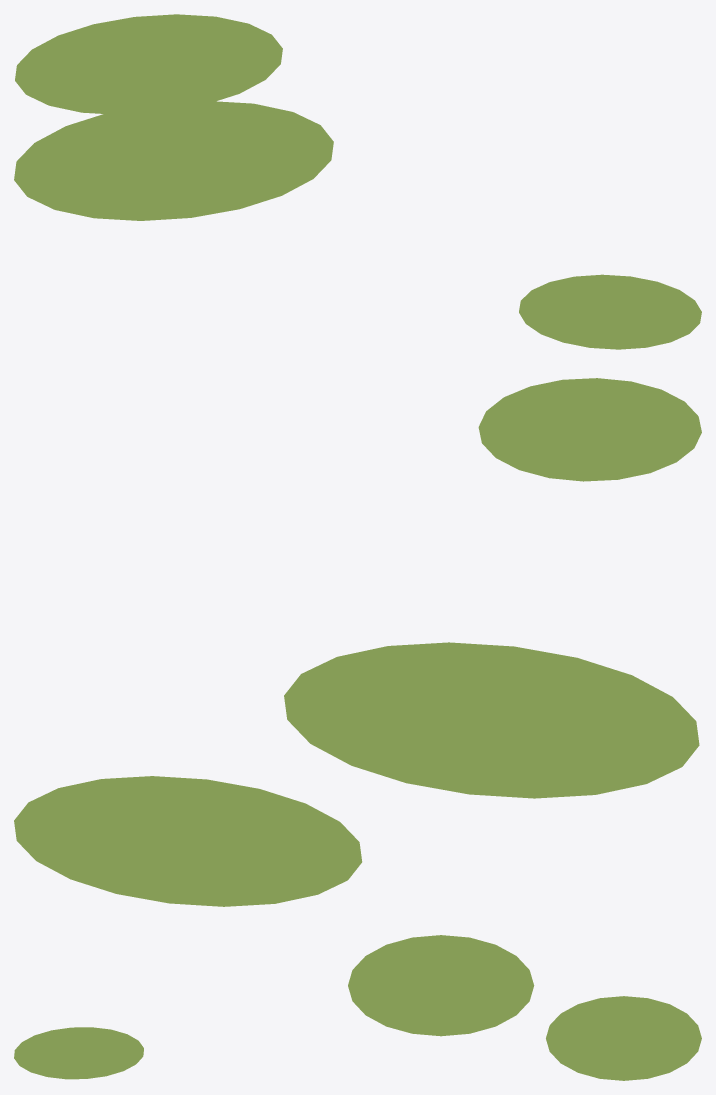
The model's file is Mesh_Home_Terrain_small.fbx.
The picture shows the model from 3 angles, top to bottom: view 1: azimuth 30°, elevation 25°; view 2: azimuth 150°, elevation 25°; view 3: azimuth 270°, elevation 25°; orthographic projection. The views are drawn at different scales.
Visible parts, largest first — view 1: Mesh_Home_Terrain_small; view 2: Mesh_Home_Terrain_small; view 3: Mesh_Home_Terrain_small.
Part boxes in pixels (x1,y1,x2,y2): Mesh_Home_Terrain_small: (14, 14, 701, 349); Mesh_Home_Terrain_small: (14, 378, 701, 906); Mesh_Home_Terrain_small: (14, 935, 701, 1080).
Bounding box in the file's own units: 231 × 13.09 × 484.
